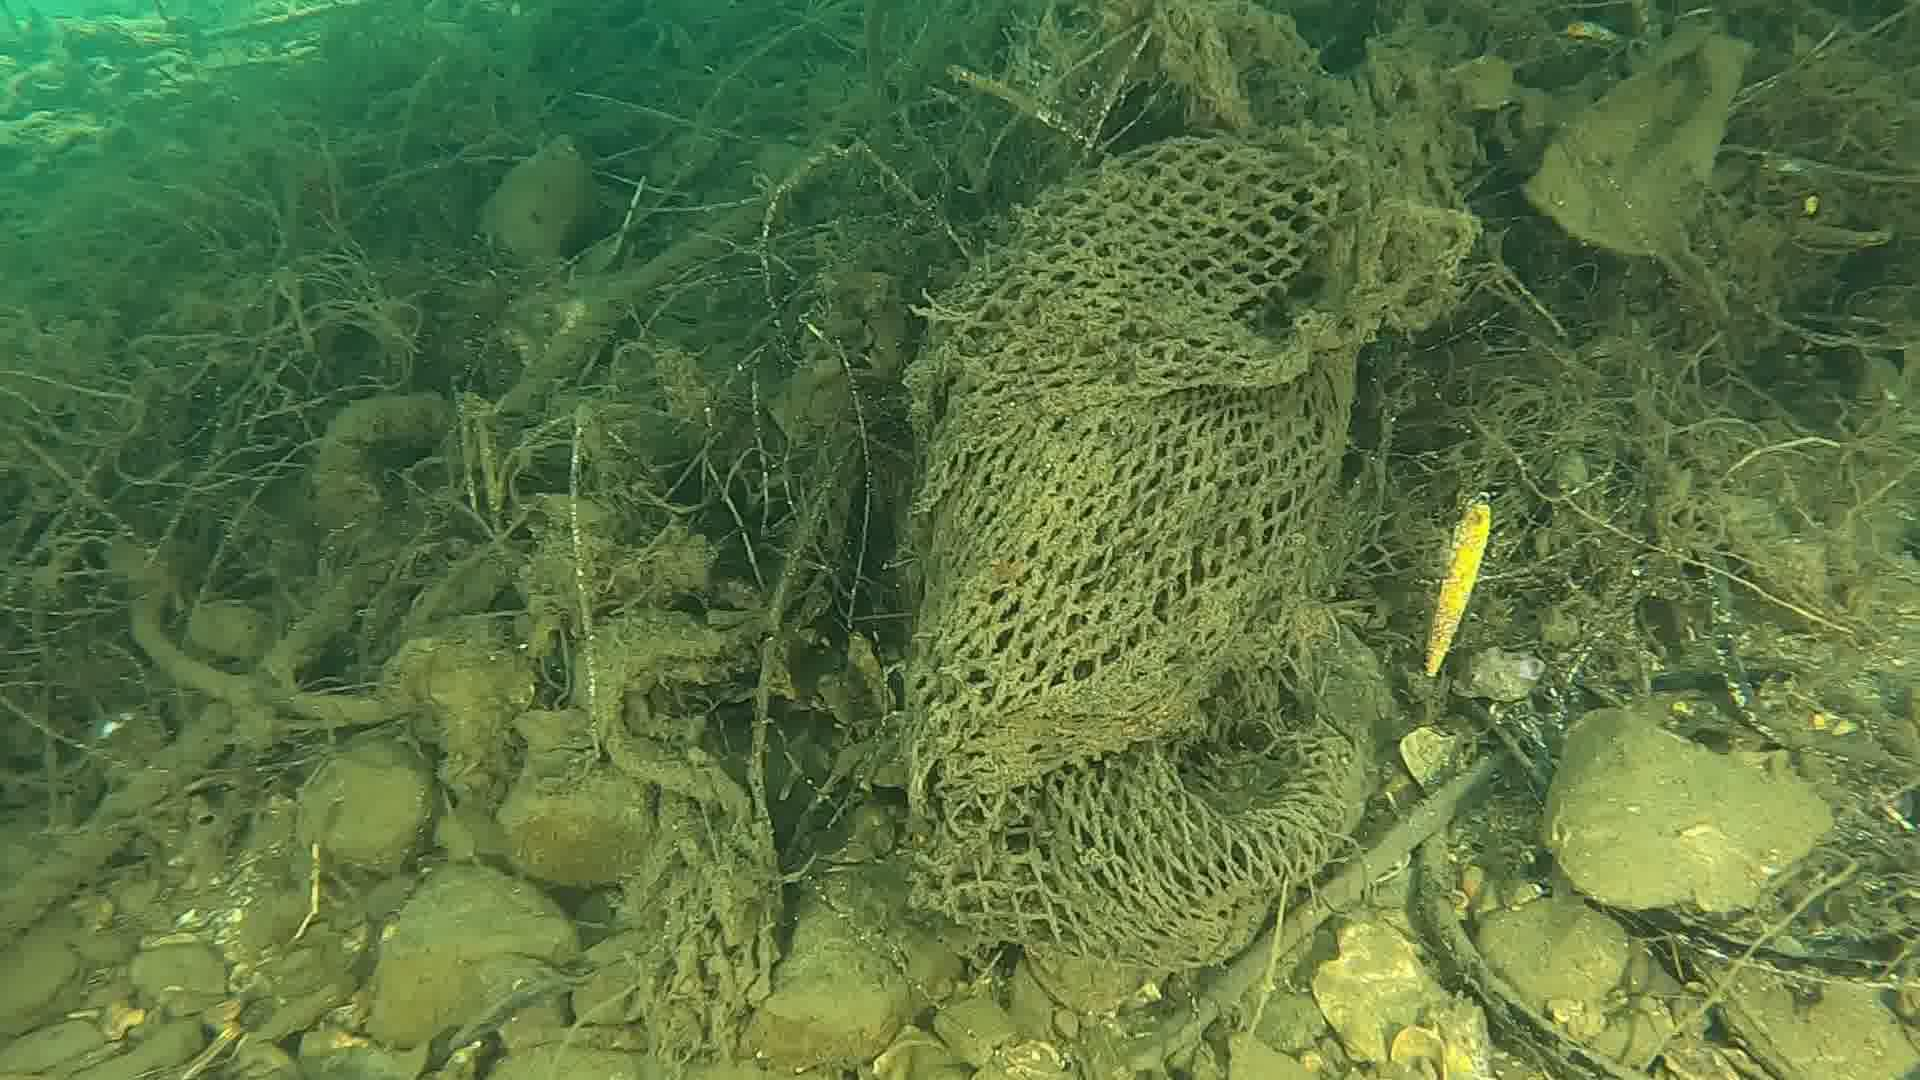fish net: (897, 125, 1429, 971)
